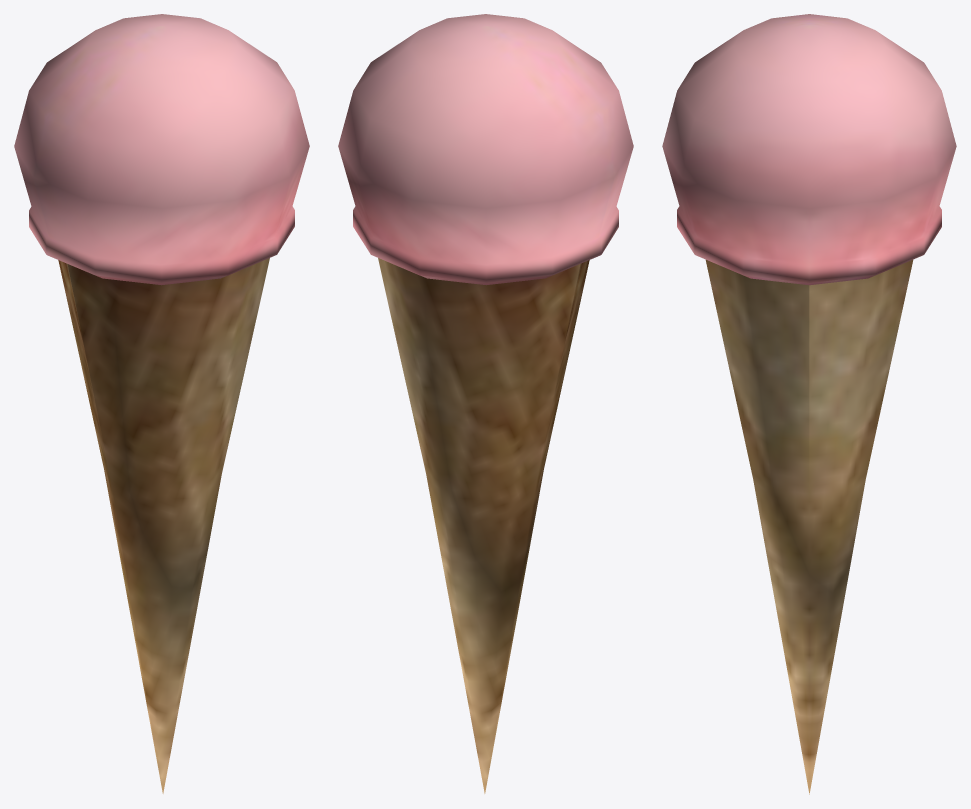
The model's file is bingqilinmesh.FBX.
3 renders of one model, left to right at view 1: azimuth 30°, elevation 25°; view 2: azimuth 150°, elevation 25°; view 3: azimuth 270°, elevation 25°, orthographic.
Visible parts, largest first — view 1: bingjiling; view 2: bingjiling; view 3: bingjiling.
Boxes of the visible parts, <box> form: bingjiling: <box>14,14,309,793</box>; bingjiling: <box>338,14,633,793</box>; bingjiling: <box>662,14,956,794</box>.
Size of the model in its own units: 85.5 by 245 by 85.2.
1 material, 1 textured.
